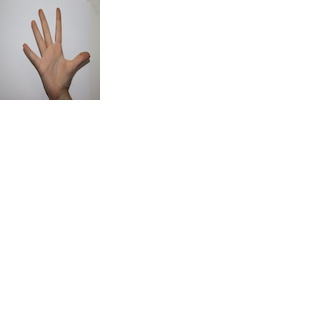paper: (20, 7, 91, 98)
